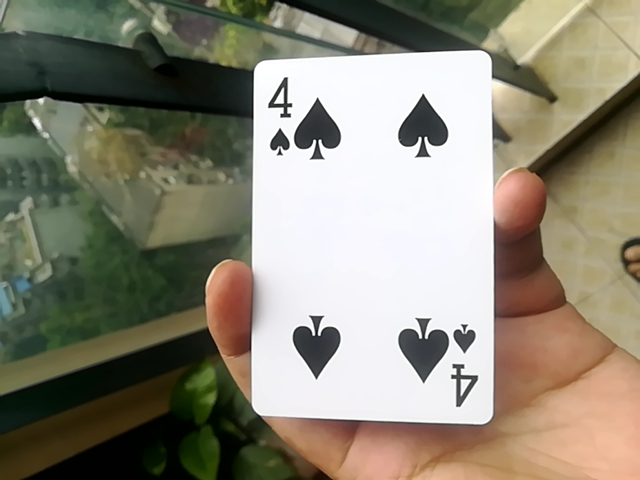ht 4: (252, 55, 496, 430)
